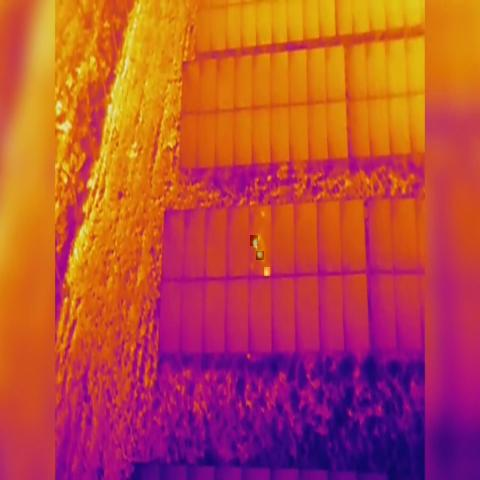fault: (250, 235, 258, 246), (256, 251, 264, 260), (264, 267, 270, 276)
